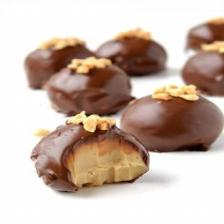brown: (26, 38, 95, 88)
